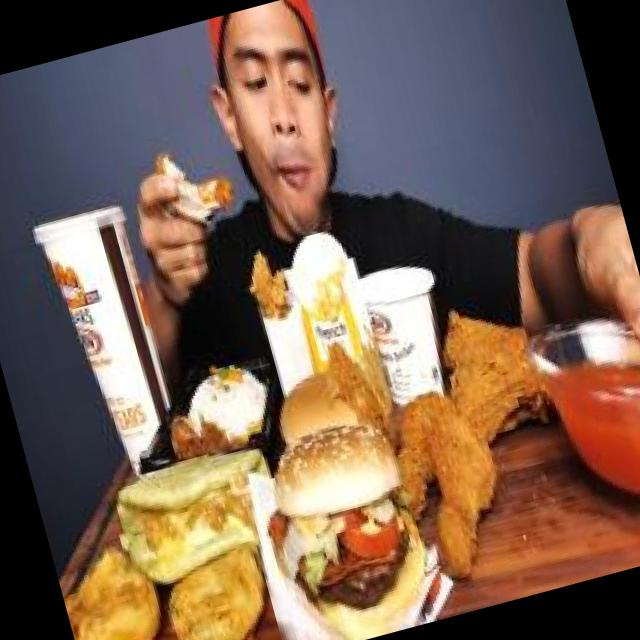AW cola: (12, 180, 211, 487)
black pepper rice bowl: (151, 362, 291, 466)
cheese burger: (260, 342, 378, 463)
chicken waffle: (232, 253, 328, 377)
crispy corn: (352, 242, 464, 393)
french fries: (282, 220, 364, 346)
fried chicken: (356, 276, 592, 577), (318, 328, 394, 446)
mango chicken pocket: (100, 424, 312, 600)
mozza burger: (249, 398, 442, 640)
perkedel: (146, 520, 289, 640), (50, 525, 177, 640)
